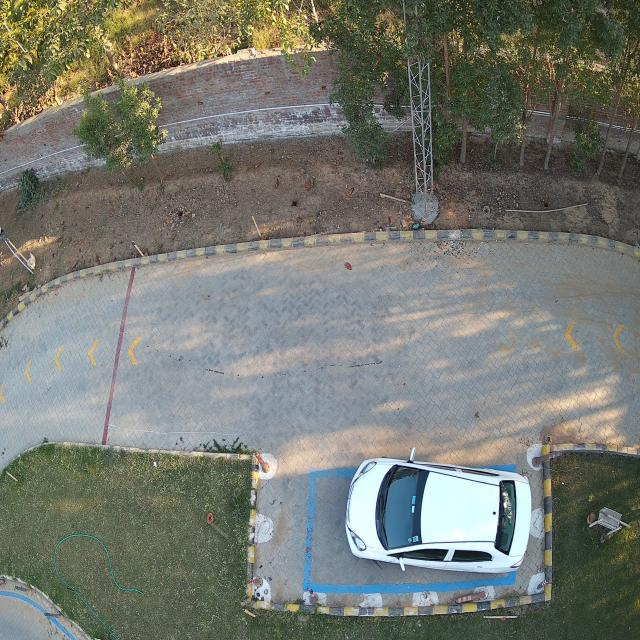car: (345, 458, 531, 573)
